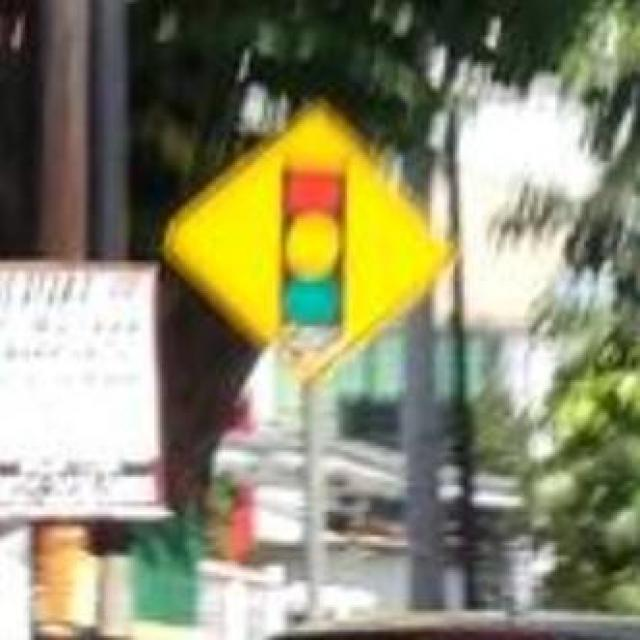traffic sign: (164, 103, 446, 376)
